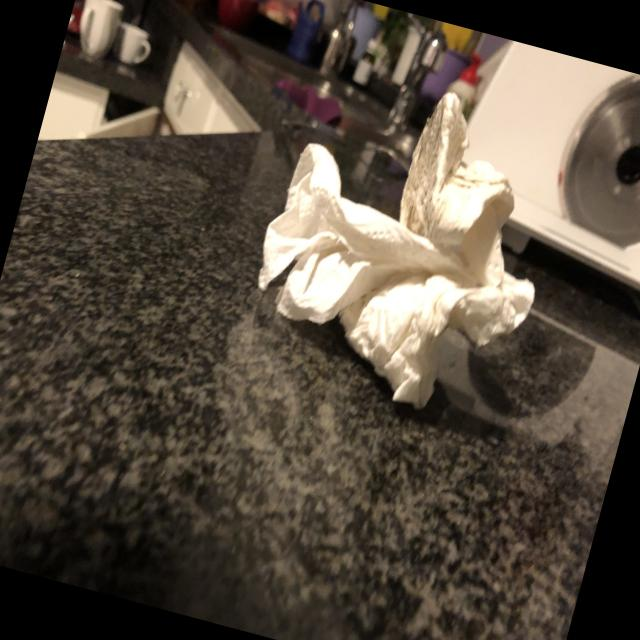organic waste: (227, 60, 578, 441)
